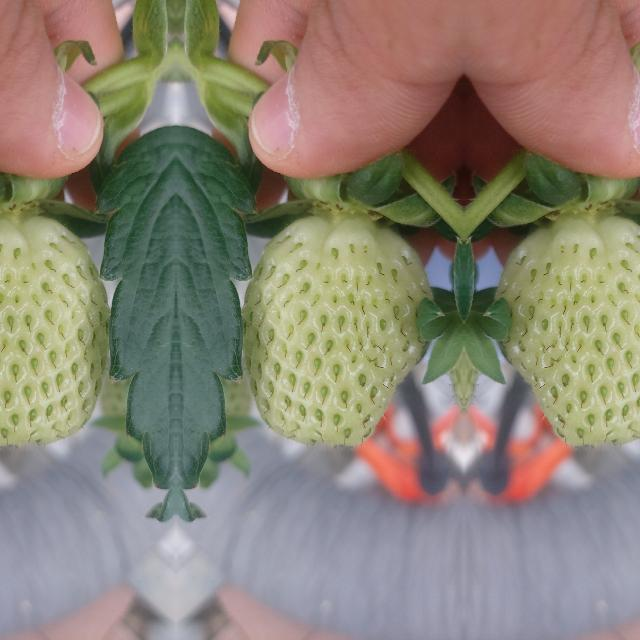Health_25: (240, 216, 432, 444), (494, 215, 640, 444), (0, 215, 110, 444)
